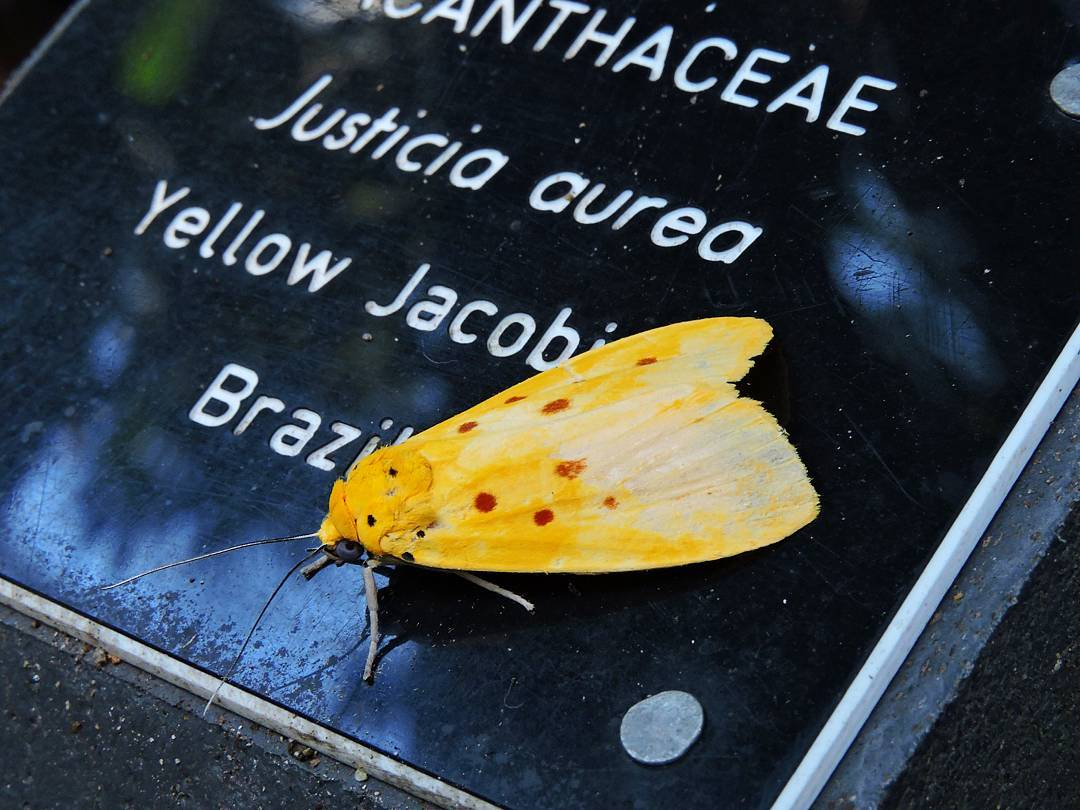Agape chloropyga: (84, 305, 829, 718)
moth: (86, 307, 831, 720)
